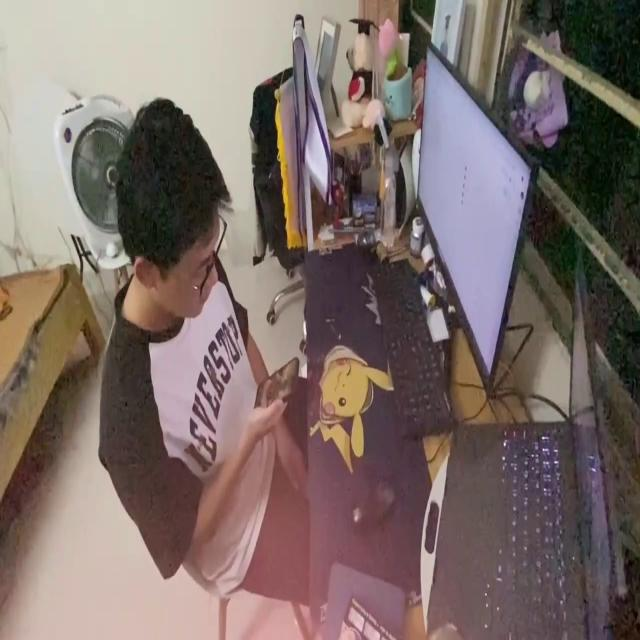laptop: (430, 237, 630, 640), (411, 39, 535, 402)
phone: (252, 351, 298, 407)
student: (94, 97, 308, 638)
